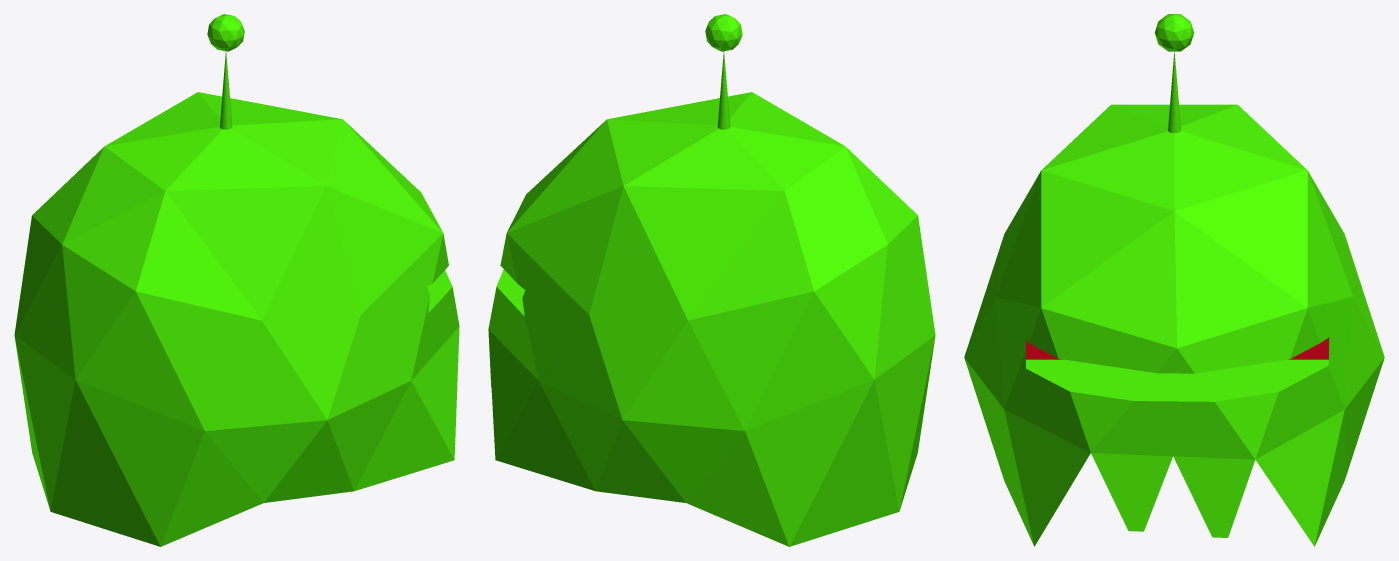
File: AlienHelmet.fbx
The picture shows the model from 3 angles, left to right: view 1: azimuth 30°, elevation 25°; view 2: azimuth 150°, elevation 25°; view 3: azimuth 270°, elevation 25°; orthographic projection. The views are drawn at different scales.
Parts seen in each view (by area): view 1: Icosphere; view 2: Icosphere; view 3: Icosphere, Cube.
Boxes of the visible parts, <box> form: Icosphere: <box>14,14,459,546</box>; Icosphere: <box>488,14,935,546</box>; Icosphere: <box>964,14,1384,546</box>; Cube: <box>1026,337,1328,359</box>.
Size of the model in its own units: 174 by 195 by 158.
